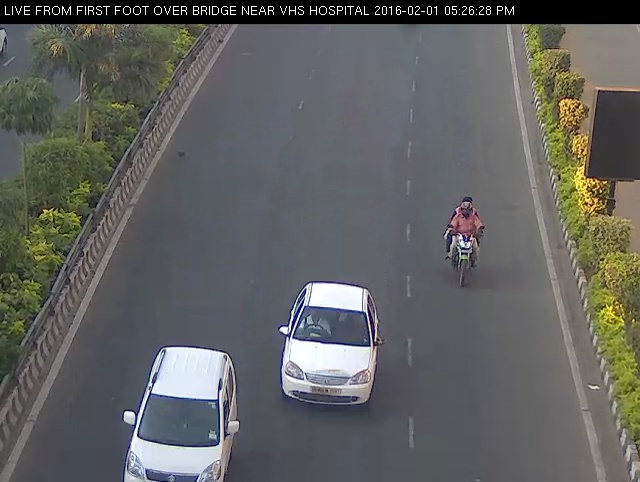Car: (111, 333, 246, 481), (265, 267, 390, 417)
Person: (436, 191, 494, 290)
